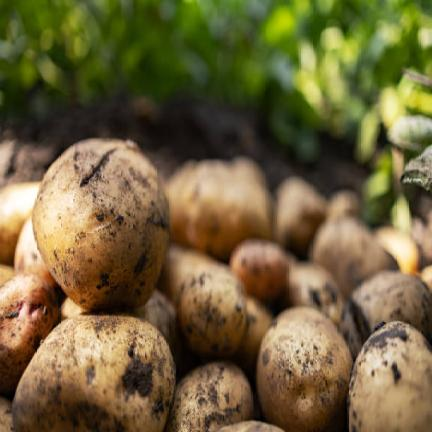potato: (32, 139, 168, 308), (13, 316, 174, 431), (257, 307, 352, 431), (166, 158, 272, 259), (349, 322, 431, 430), (340, 271, 431, 358), (14, 217, 85, 319), (0, 274, 58, 394), (310, 218, 397, 298), (177, 263, 246, 356), (165, 362, 253, 431), (119, 290, 180, 358), (274, 177, 325, 255), (284, 263, 343, 324), (229, 239, 287, 301), (157, 244, 214, 305), (0, 183, 39, 264), (234, 298, 272, 376), (376, 227, 419, 273), (328, 190, 360, 218), (217, 420, 282, 431), (0, 397, 13, 431), (0, 264, 14, 285), (420, 265, 431, 291)
